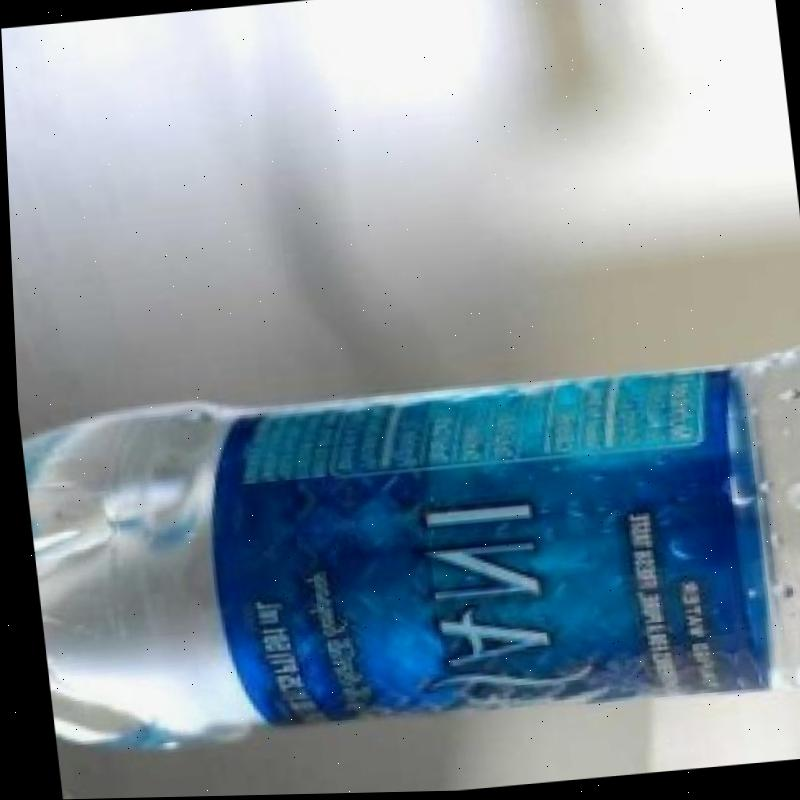botella: (13, 348, 800, 765)
